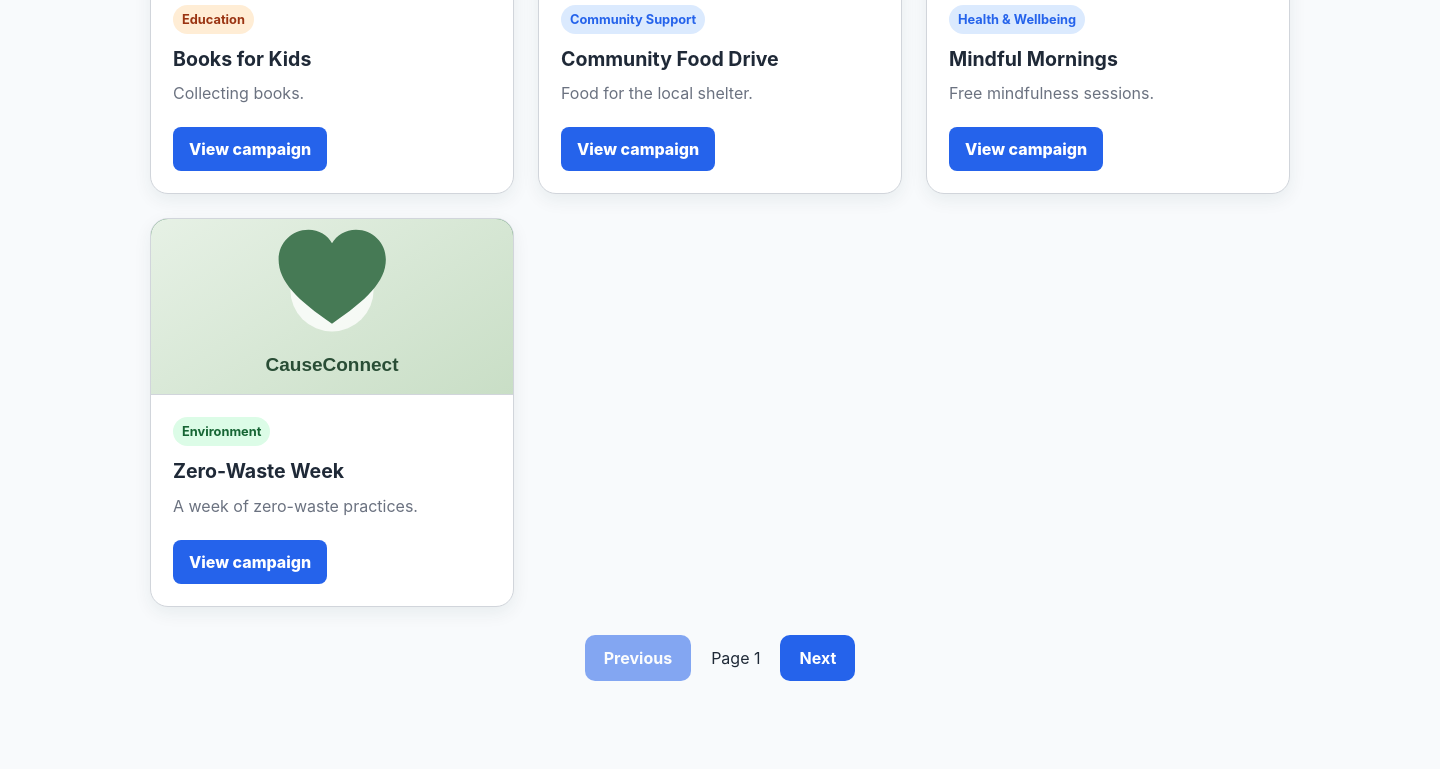
Test: CauseConnect campaign homepage › fetches subsequent pages and resets to page one when searching
(page scrolled)
Expected: the heading "Books for Kids" is shown, [173,48,311,71]
Click the button "Next" at (818, 658), box [780,635,855,681]
(page scrolled)
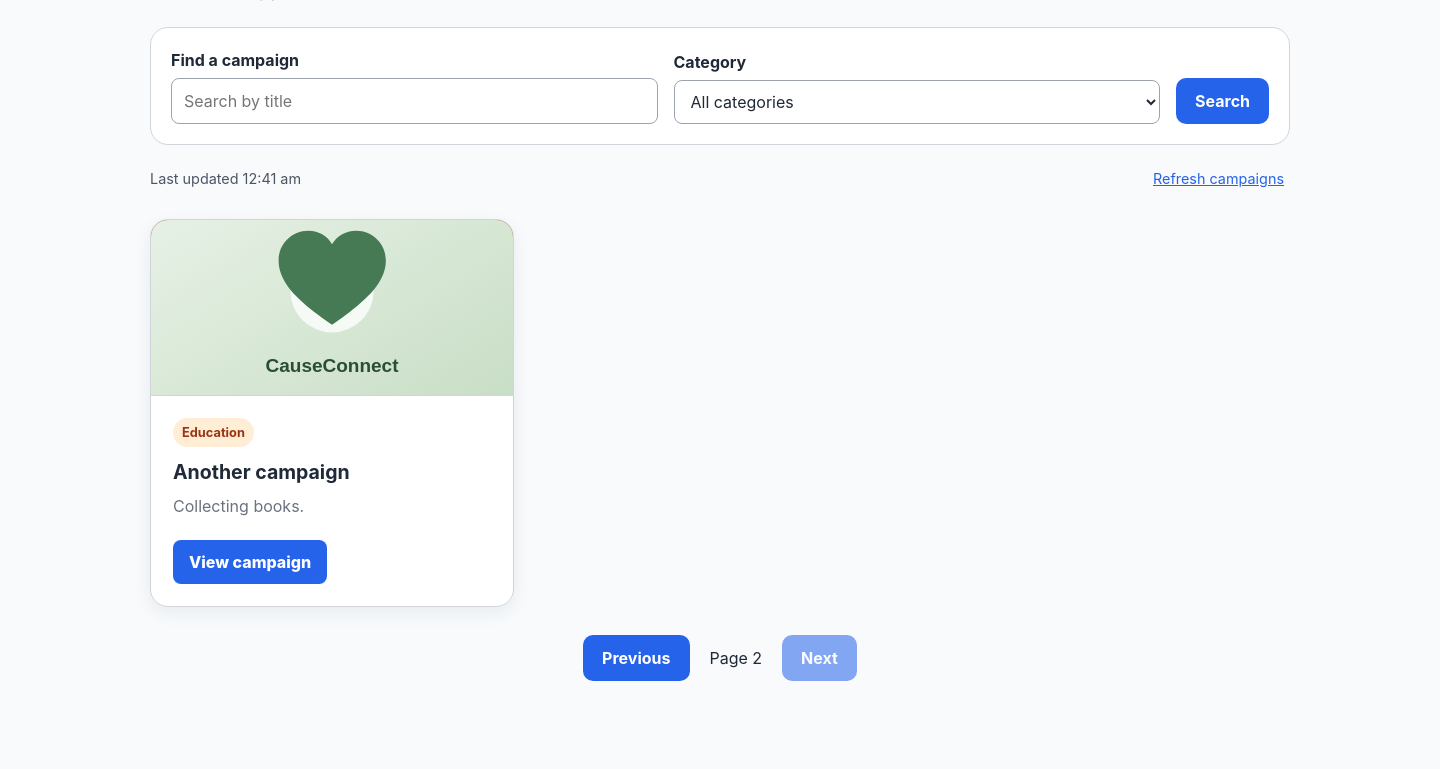
Expected: the heading "Another campaign" is shown, [173,461,350,484]
Type "  Books & schools  " into the search field labelled "Find a campaign" at (414, 100), box [171,78,658,124]
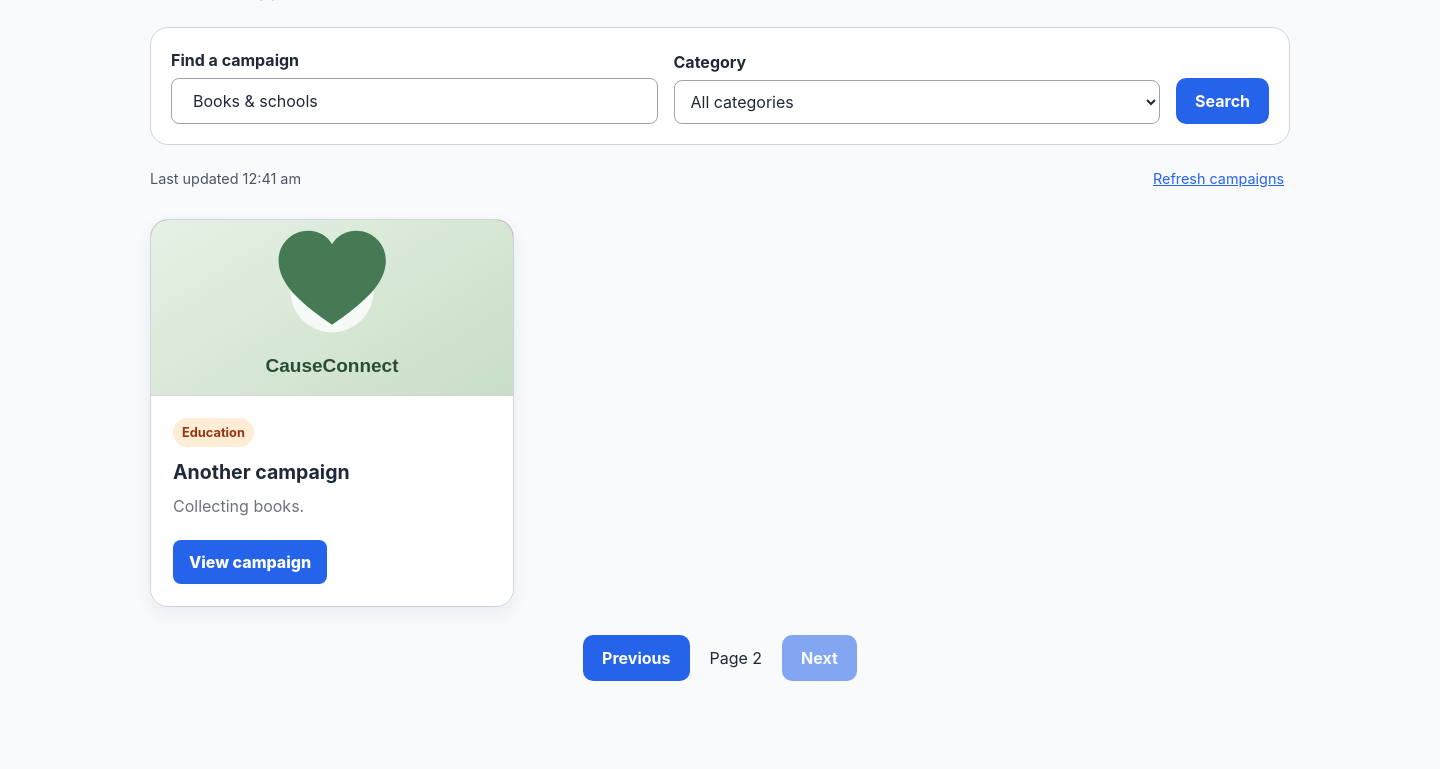
Click the button "Search" at (1223, 100), box [1176,78,1269,124]
(page scrolled)
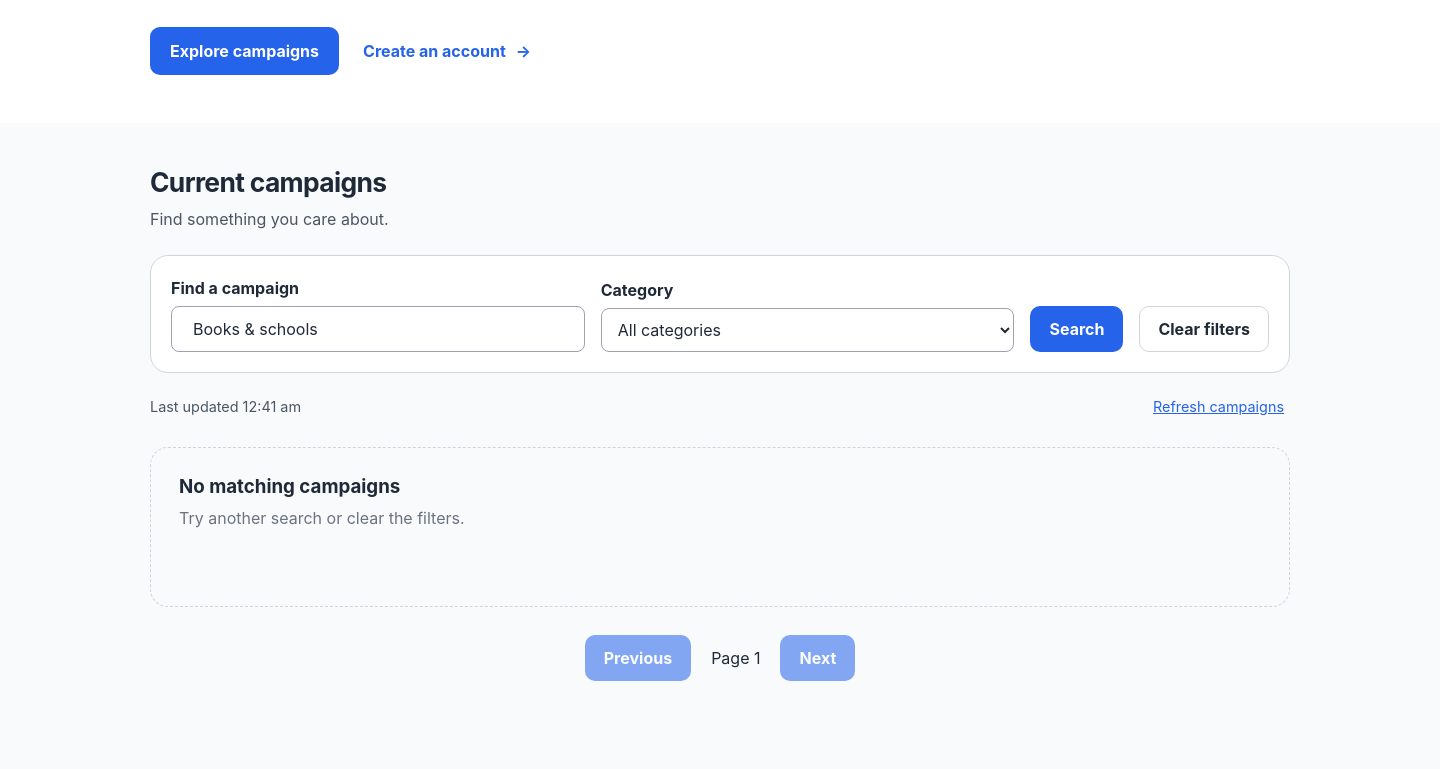
Expected: the heading "No matching campaigns" is shown, [179,474,400,498]
Expected: the button "Previous" is disabled, [585,634,691,680]
